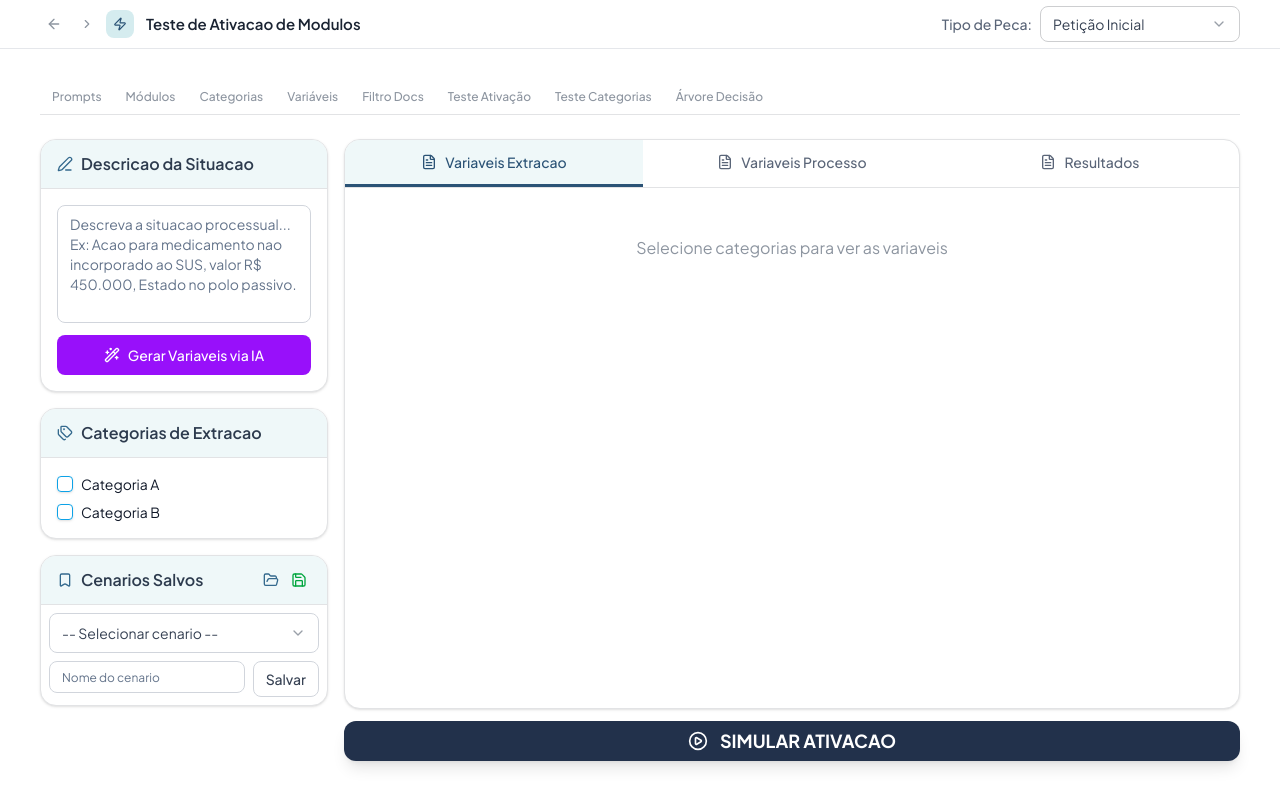
Test case: TesteAtivacaoPage › executes simulation and shows results
# Selecionar categoria
Click the text "Categoria A" at (120, 484), box [81, 474, 159, 494]
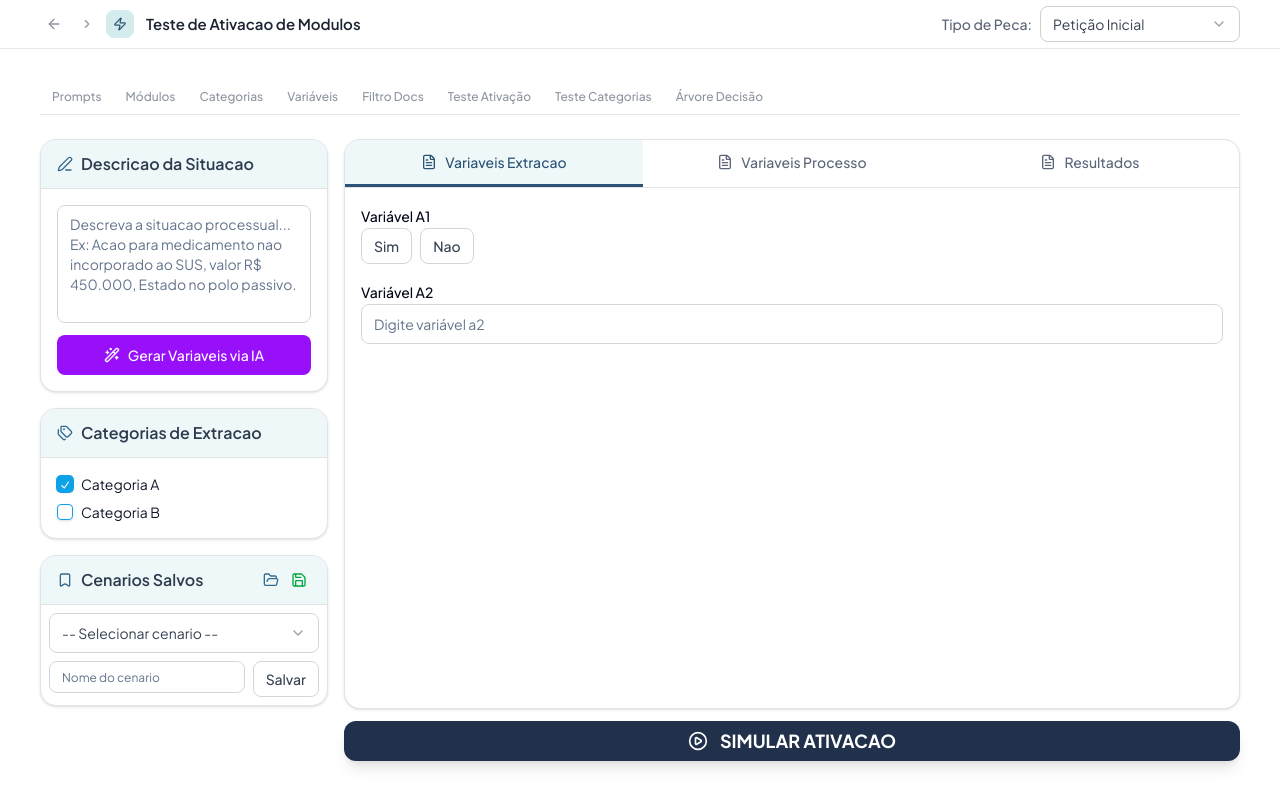
# Clicar no botão SIMULAR ATIVACAO
Click the button "SIMULAR ATIVACAO" at (792, 741), box [344, 721, 1240, 761]
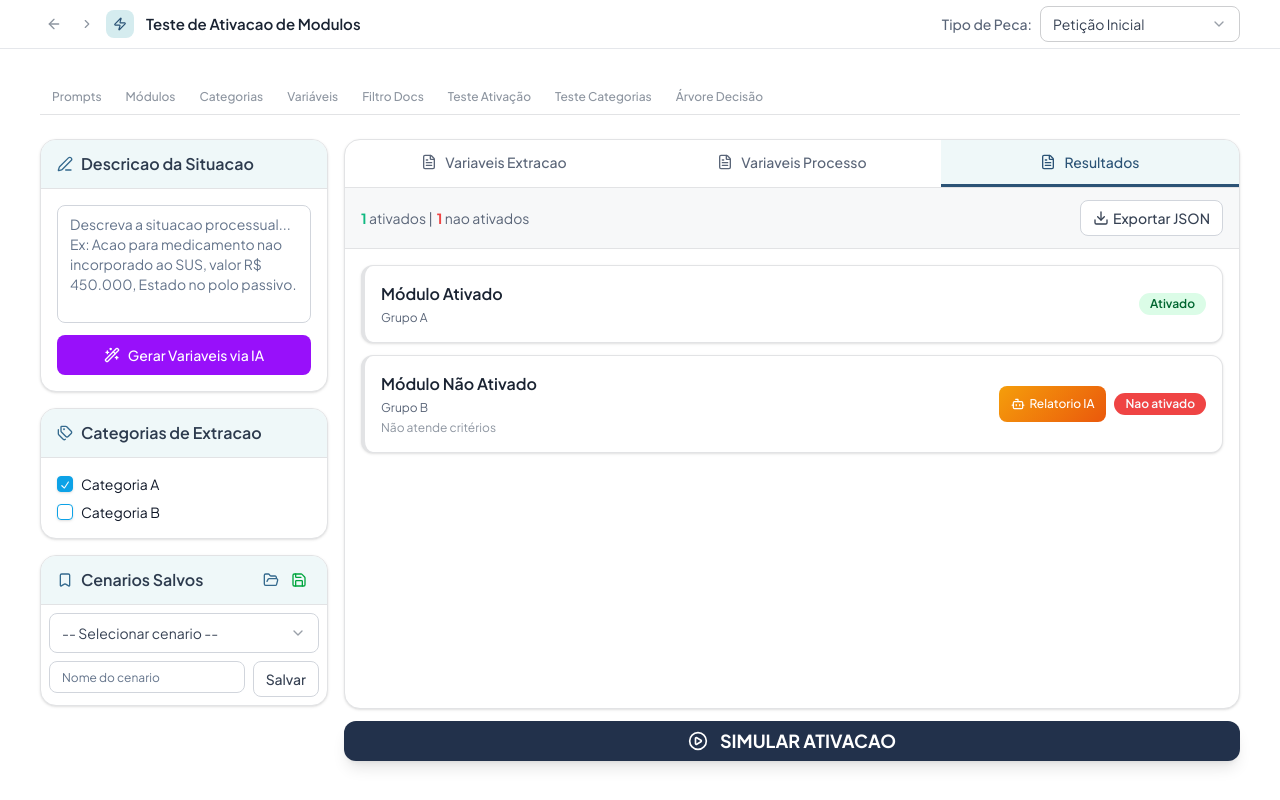
Expected: the text "Módulo Ativado" is shown, [381, 282, 503, 306]
Expected: the text "Módulo Não Ativado" is shown, [381, 372, 537, 396]
Expected: the text "Grupo A" is shown, [381, 310, 428, 325]
